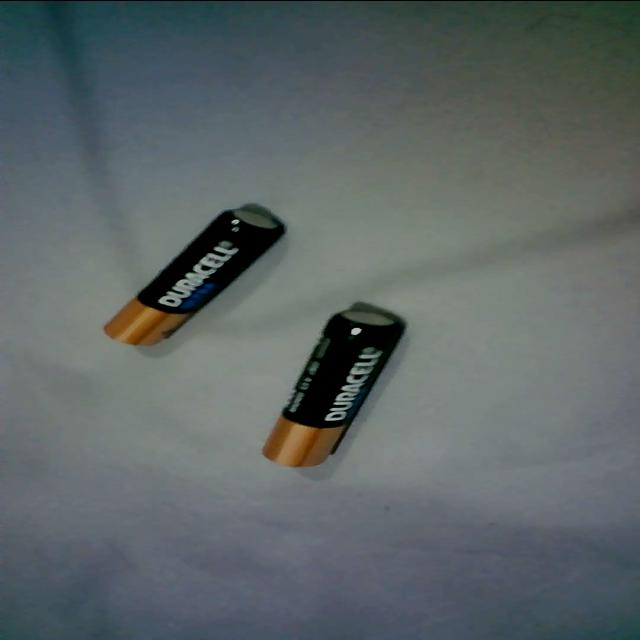AAA: (100, 202, 288, 351), (253, 304, 409, 470)
